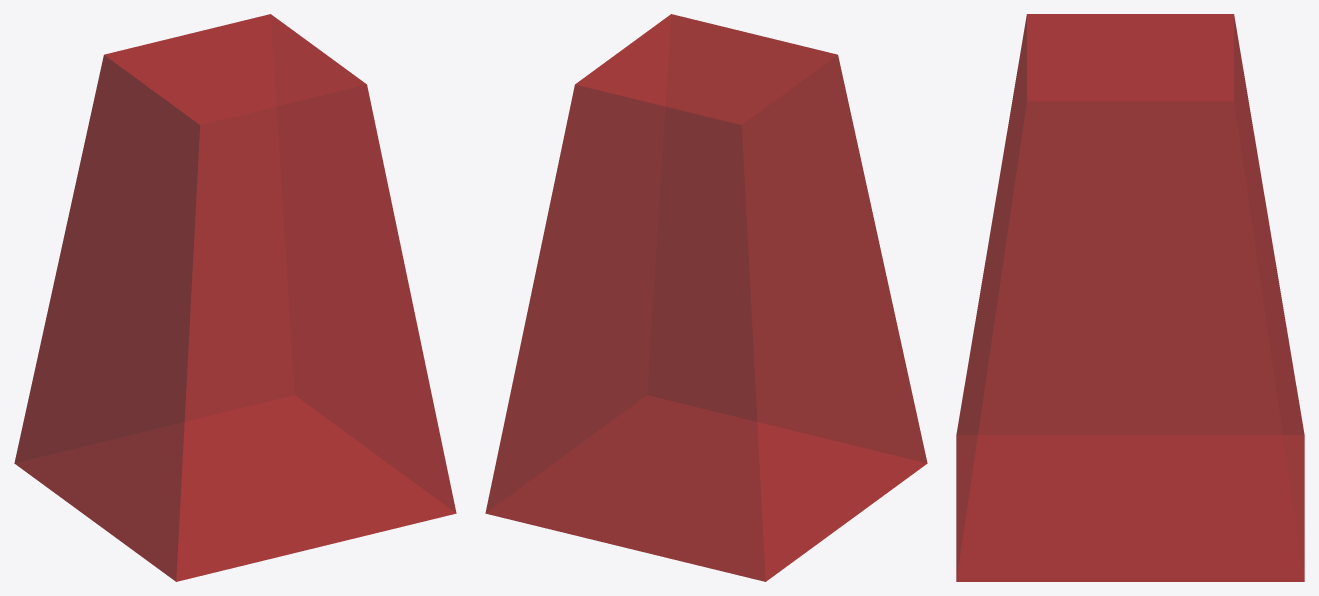
The model's file is SM_Prop_Stonewall_Pillar_02_Collision.fbx.
The picture shows the model from 3 angles, left to right: view 1: azimuth 30°, elevation 25°; view 2: azimuth 150°, elevation 25°; view 3: azimuth 270°, elevation 25°; orthographic projection. The views are drawn at different scales.
Parts seen in each view (by area): view 1: SM_Prop_Stonewall_Pillar_02_Collision; view 2: SM_Prop_Stonewall_Pillar_02_Collision; view 3: SM_Prop_Stonewall_Pillar_02_Collision.
Part boxes in pixels (box(x1,y1,x2,y2)): SM_Prop_Stonewall_Pillar_02_Collision: box(14, 14, 456, 581); SM_Prop_Stonewall_Pillar_02_Collision: box(485, 14, 927, 581); SM_Prop_Stonewall_Pillar_02_Collision: box(956, 14, 1304, 581).
Bounding box in the file's own units: 86.32 × 123 × 86.32.
